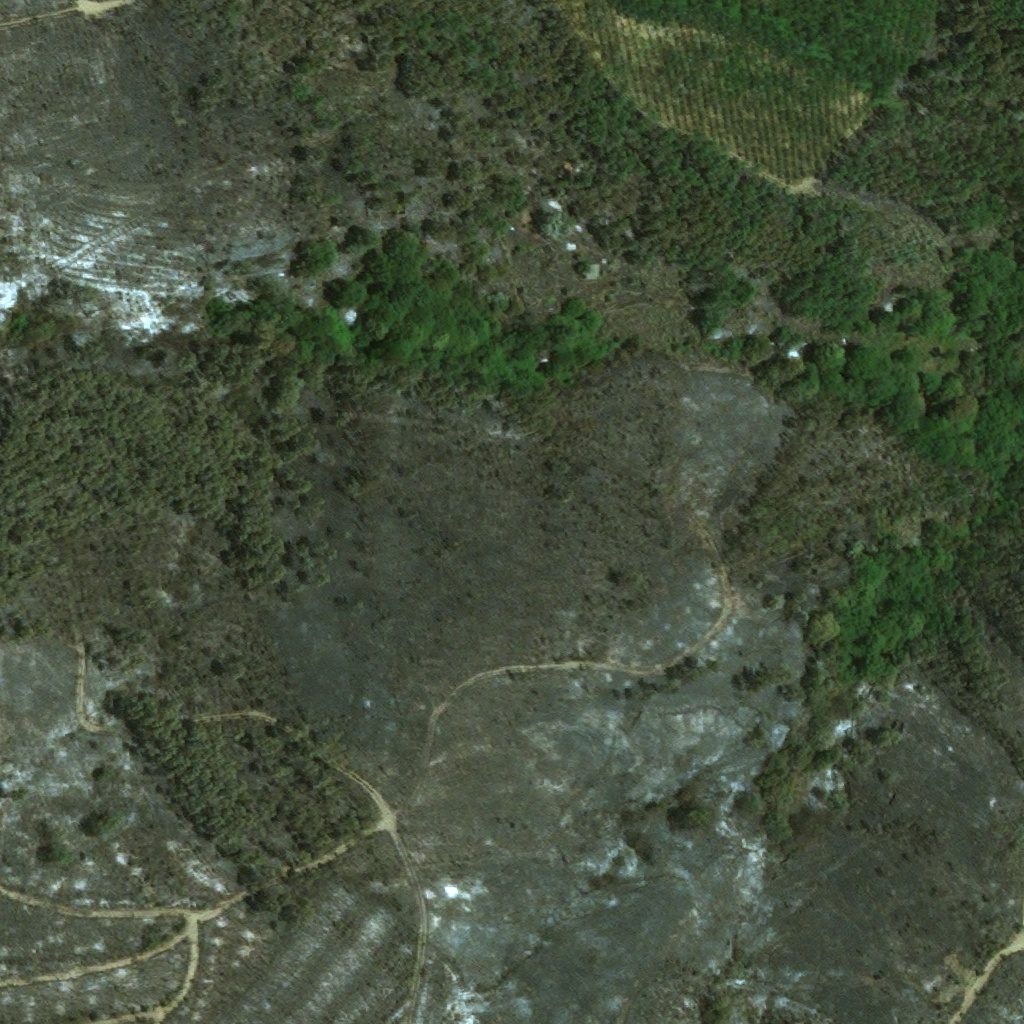0 no-damage: (581, 266, 599, 284)
2 major-damage: (543, 194, 561, 211)
